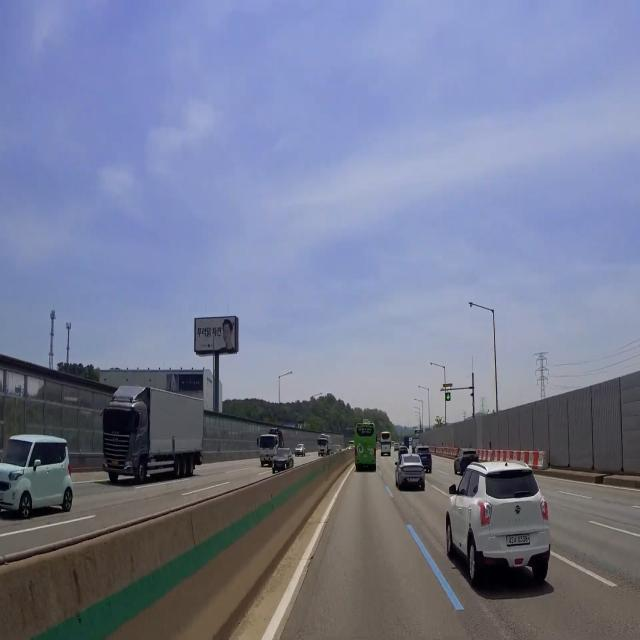car: (504, 532, 533, 549), (108, 455, 124, 470), (406, 474, 421, 486), (360, 452, 372, 466), (0, 488, 4, 506)
